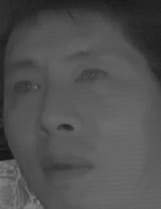eye: (74, 64, 110, 92), (10, 75, 43, 99)
mouth: (40, 149, 95, 184)
